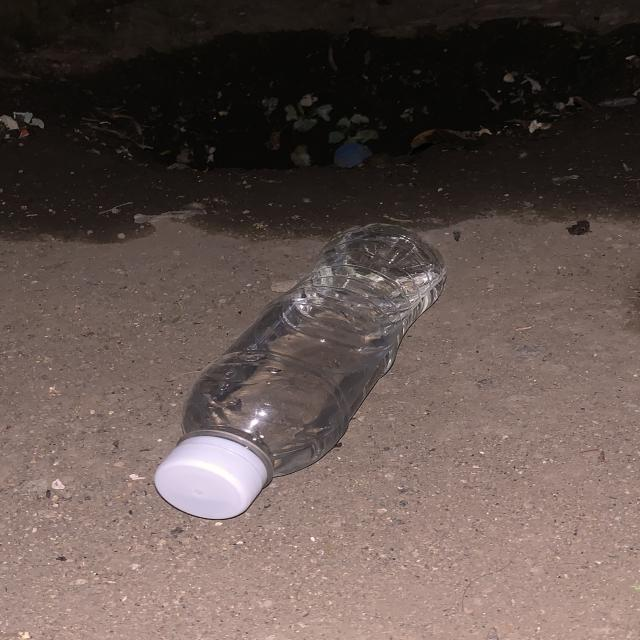Bottle: (154, 223, 446, 520)
